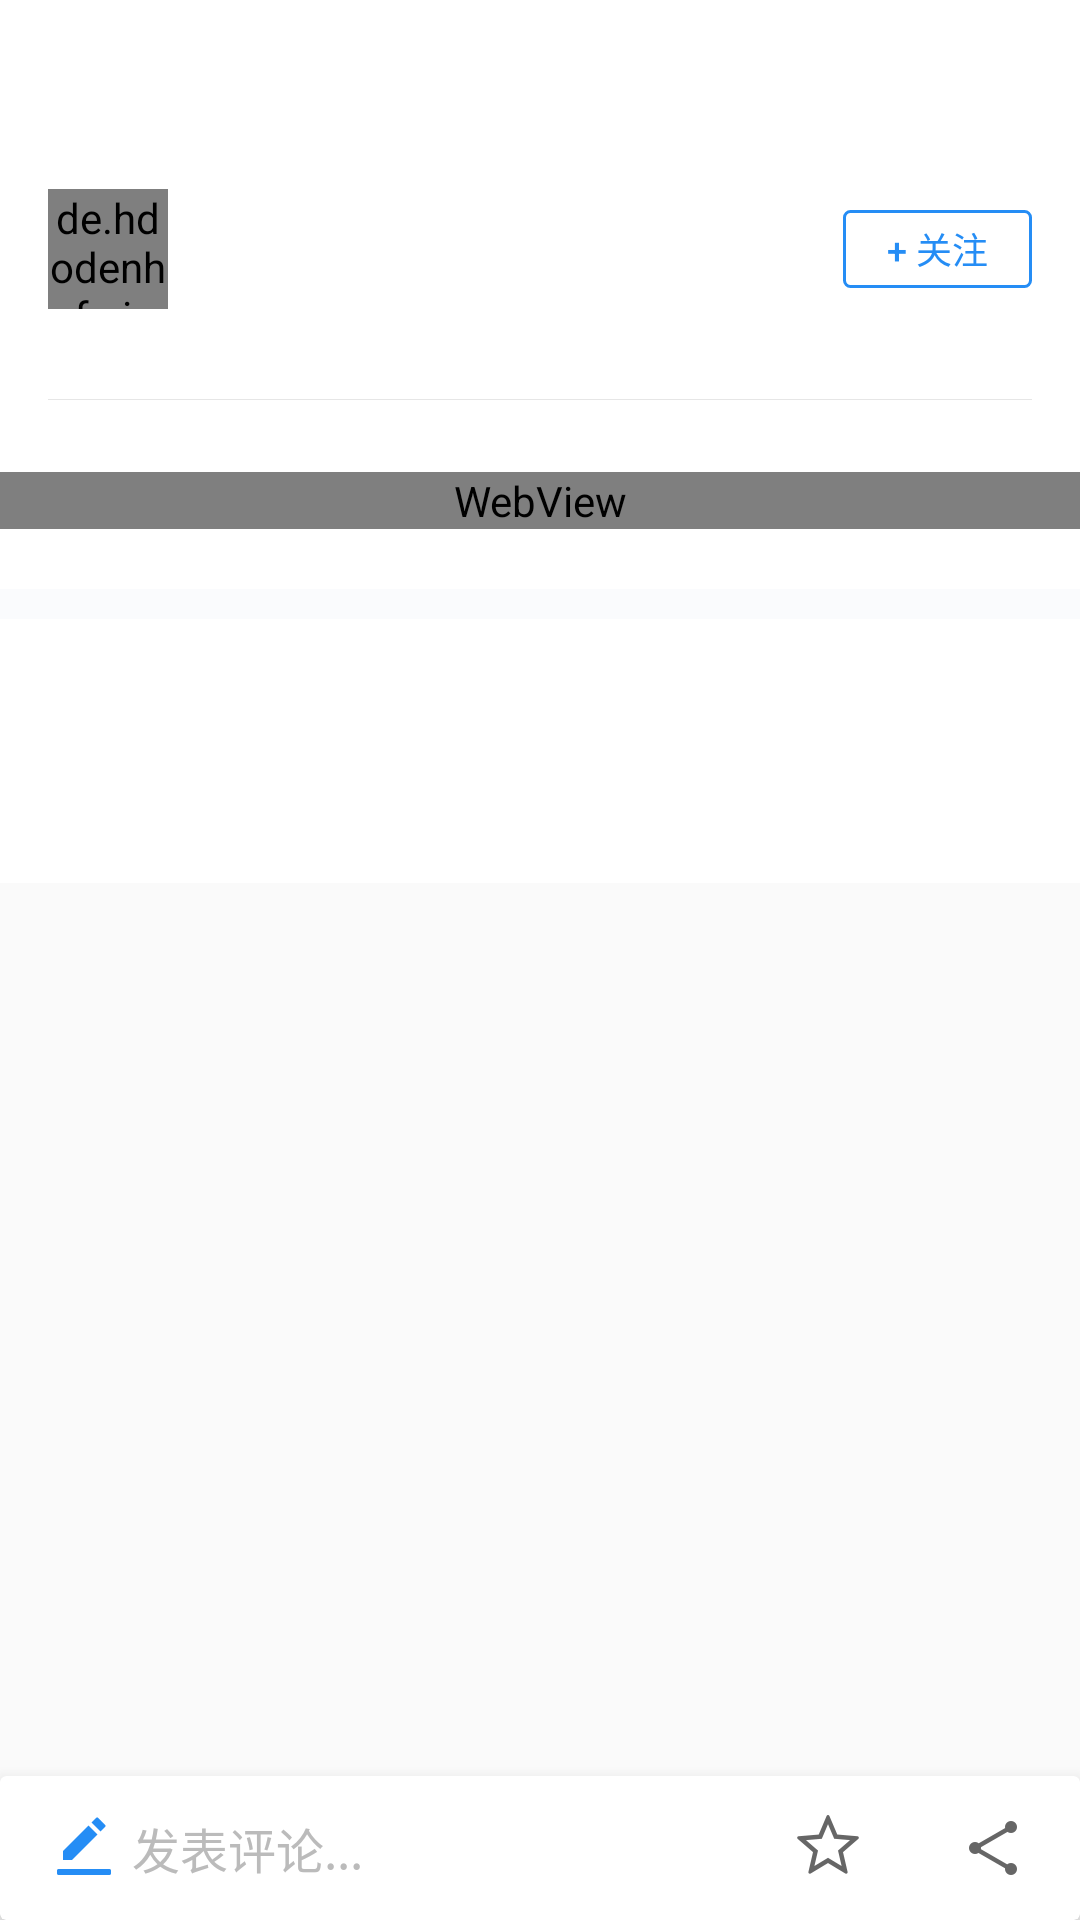

Icon click points for this 1080px×1920px phone screenshot, format [x,y]:
edit: [84,1846]
share: [993,1848]
unfavorite: [828,1844]
